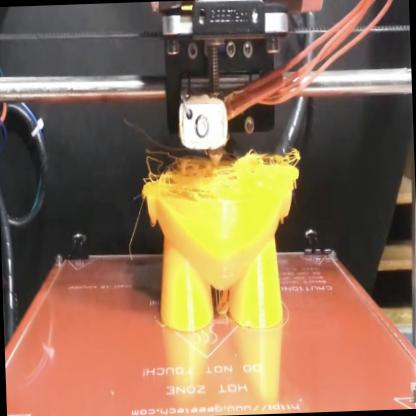fail: (135, 142, 308, 197)
